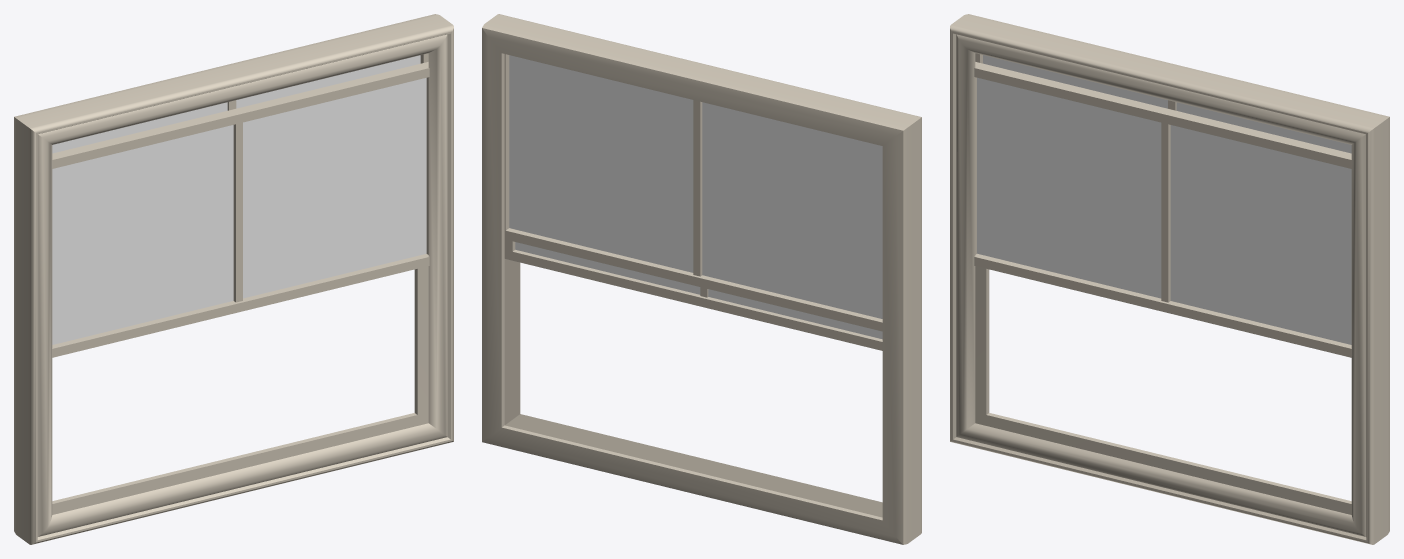
Rendered from AP_Window_HB.fbx.
3 renders of one model, left to right at view 1: azimuth 30°, elevation 25°; view 2: azimuth 150°, elevation 25°; view 3: azimuth 330°, elevation 25°, orthographic.
Visible parts, largest first — view 1: pasted__pPlane3, pasted__pCube4, pasted__pCube5, pasted__pPlane4; view 2: pasted__pPlane4, pasted__pCube4, pasted__pCube6, pasted__pCube5, pasted__pPlane3; view 3: pasted__pPlane3, pasted__pCube4, pasted__pCube5, pasted__pPlane4.
Boxes of the visible parts, x1,y1,x2,y2 form: pasted__pPlane3: (52, 78, 426, 344); pasted__pCube4: (14, 14, 453, 544); pasted__pCube5: (52, 62, 429, 357); pasted__pPlane4: (52, 55, 420, 153); pasted__pPlane4: (509, 55, 882, 318); pasted__pCube4: (482, 14, 921, 544); pasted__pCube6: (504, 54, 882, 331); pasted__pCube5: (504, 239, 882, 350); pasted__pPlane3: (515, 242, 882, 339); pasted__pPlane3: (977, 77, 1351, 344); pasted__pCube4: (950, 14, 1389, 544); pasted__pCube5: (974, 62, 1351, 357); pasted__pPlane4: (983, 55, 1351, 153).
Bounding box in the file's own units: 1.2 × 1.13 × 0.0997.
